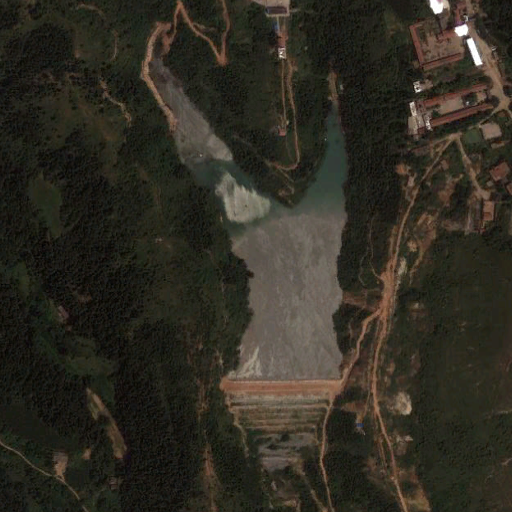tp: (149, 61, 347, 458)
